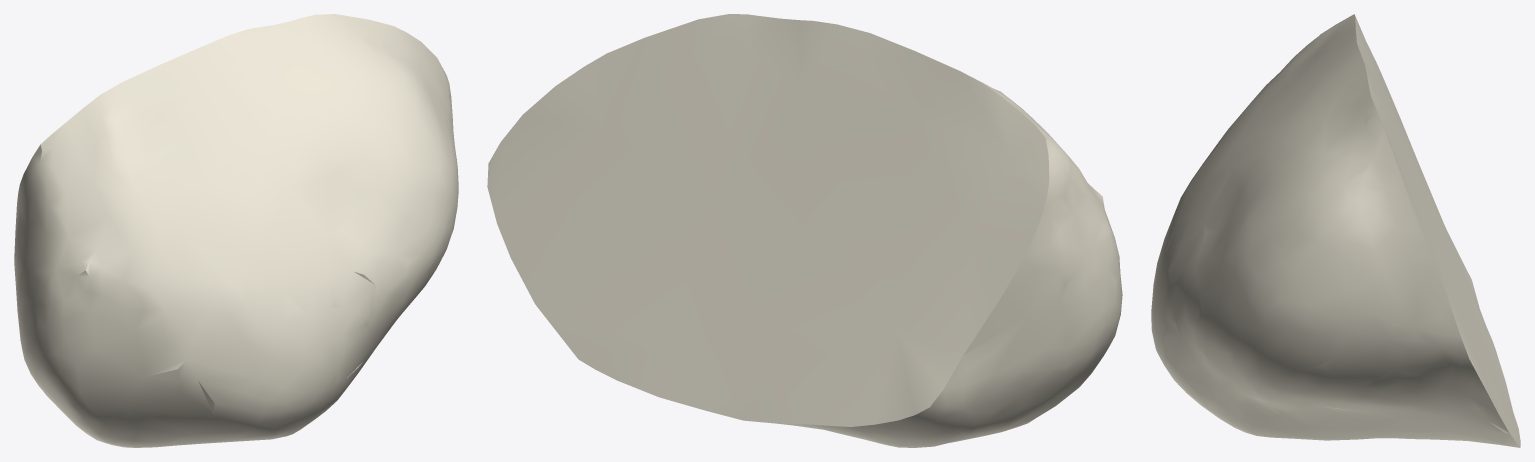
Rendered from fma63599_mm1527m.glb.
The picture shows the model from 3 angles, left to right: view 1: azimuth 30°, elevation 25°; view 2: azimuth 150°, elevation 25°; view 3: azimuth 270°, elevation 25°; orthographic projection. The views are drawn at different scales.
Parts seen in each view (by area): view 1: FMA63599_MM1527M; view 2: FMA63599_MM1527M; view 3: FMA63599_MM1527M.
Part boxes in pixels (box(x1,y1,x2,y2)): FMA63599_MM1527M: box(14, 14, 458, 447); FMA63599_MM1527M: box(487, 14, 1122, 447); FMA63599_MM1527M: box(1151, 14, 1520, 447).
Size of the model in its own units: 0.0156 by 0.011 by 0.00959.
